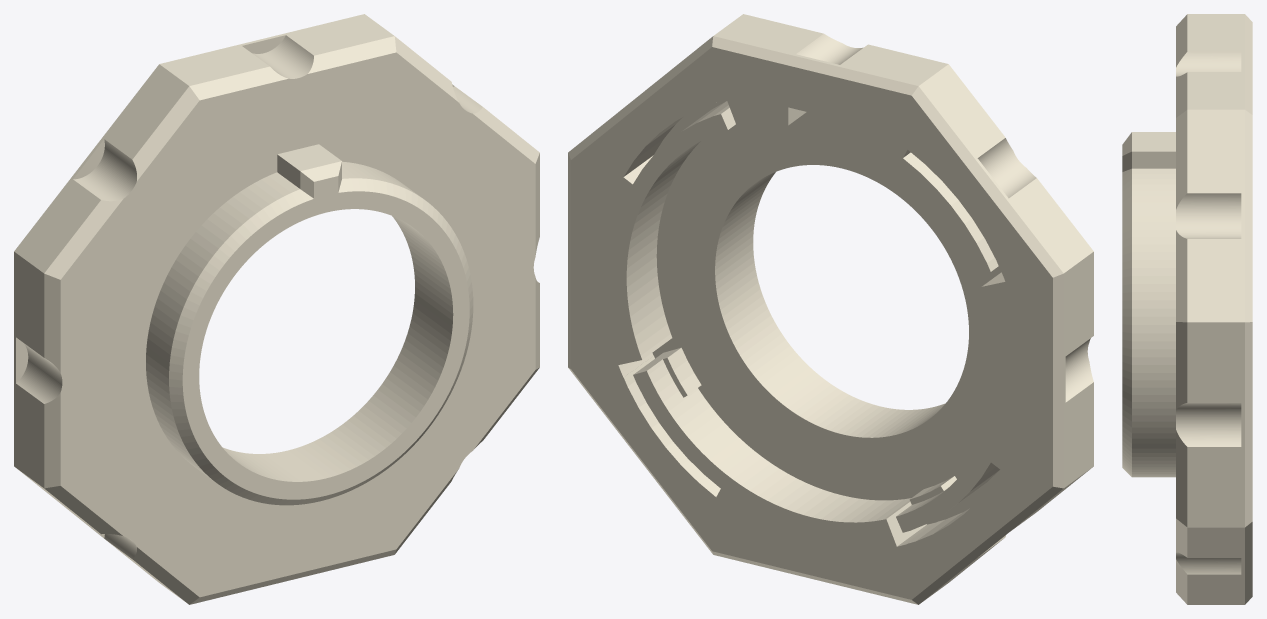
The model's file is t2@ivory.glb.
The picture shows the model from 3 angles, left to right: view 1: azimuth 30°, elevation 25°; view 2: azimuth 150°, elevation 25°; view 3: azimuth 270°, elevation 25°; orthographic projection. The views are drawn at different scales.
Visible parts, largest first — view 1: geometry_0; view 2: geometry_0; view 3: geometry_0.
Part boxes in pixels (bbox=[...]): geometry_0: bbox=[14, 14, 539, 604]; geometry_0: bbox=[568, 14, 1093, 604]; geometry_0: bbox=[1122, 14, 1252, 604].
Size of the model in its own units: 28.5 by 28.5 by 6.8.
